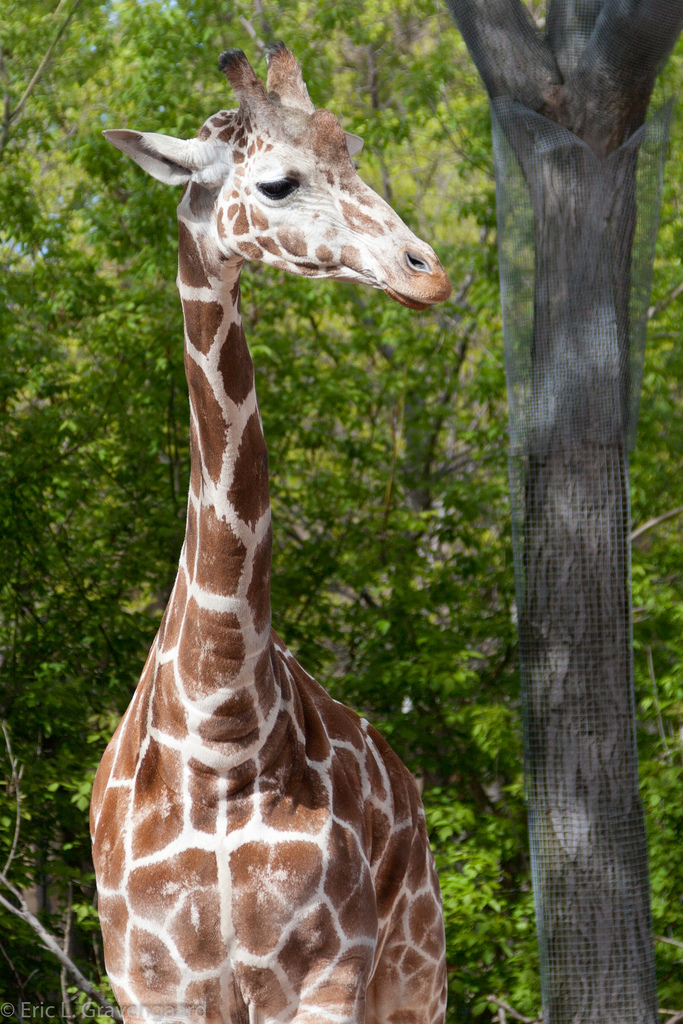giraffe: (83, 74, 459, 972)
